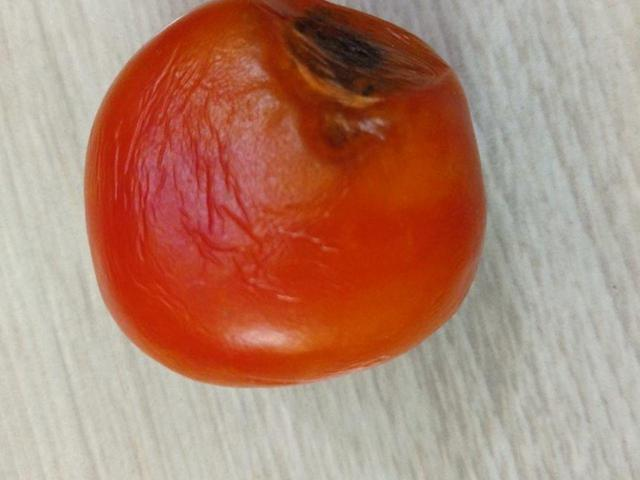defect: (80, 0, 492, 390)
